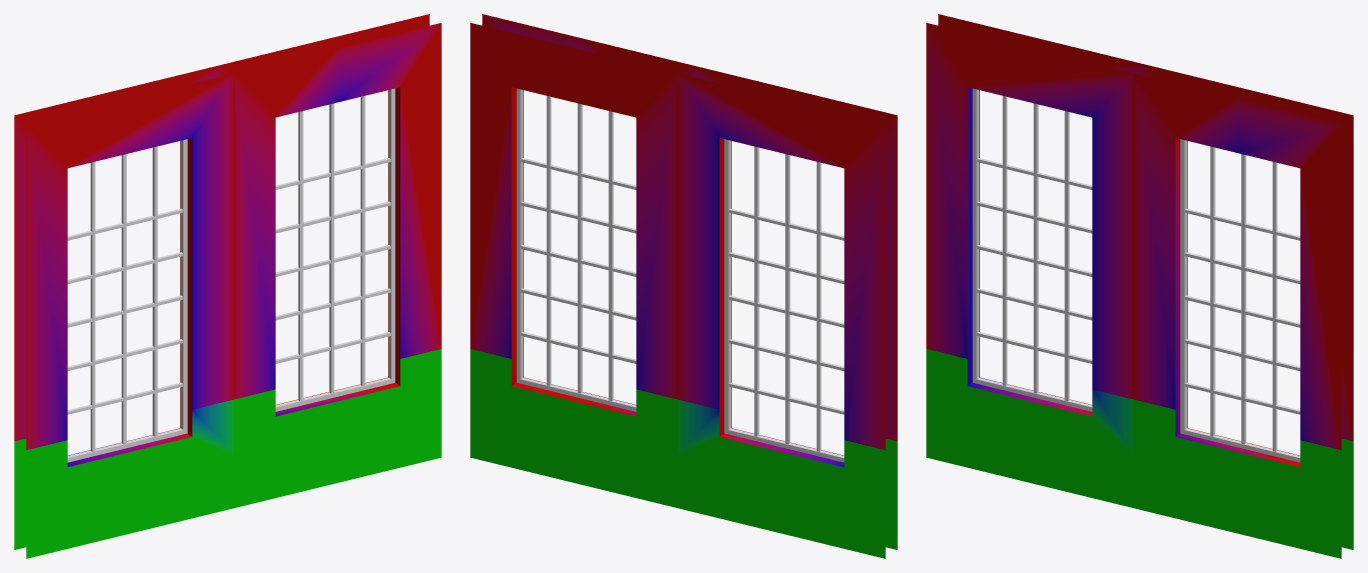
The model's file is WindowA_A_8x8.fbx.
3 renders of one model, left to right at view 1: azimuth 30°, elevation 25°; view 2: azimuth 150°, elevation 25°; view 3: azimuth 330°, elevation 25°, orthographic.
Visible parts, largest first — view 1: Plane.000, Cube.002; view 2: Plane.000, Cube.002; view 3: Plane.000, Cube.002.
Part boxes in pixels (x1,y1,x2,y2): Plane.000: (14,14,441,558); Cube.002: (67,88,395,462); Plane.000: (470,14,897,558); Cube.002: (516,88,844,462); Plane.000: (926,14,1353,558); Cube.002: (972,88,1300,462).
Size of the model in its own units: 800 by 800 by 40.
